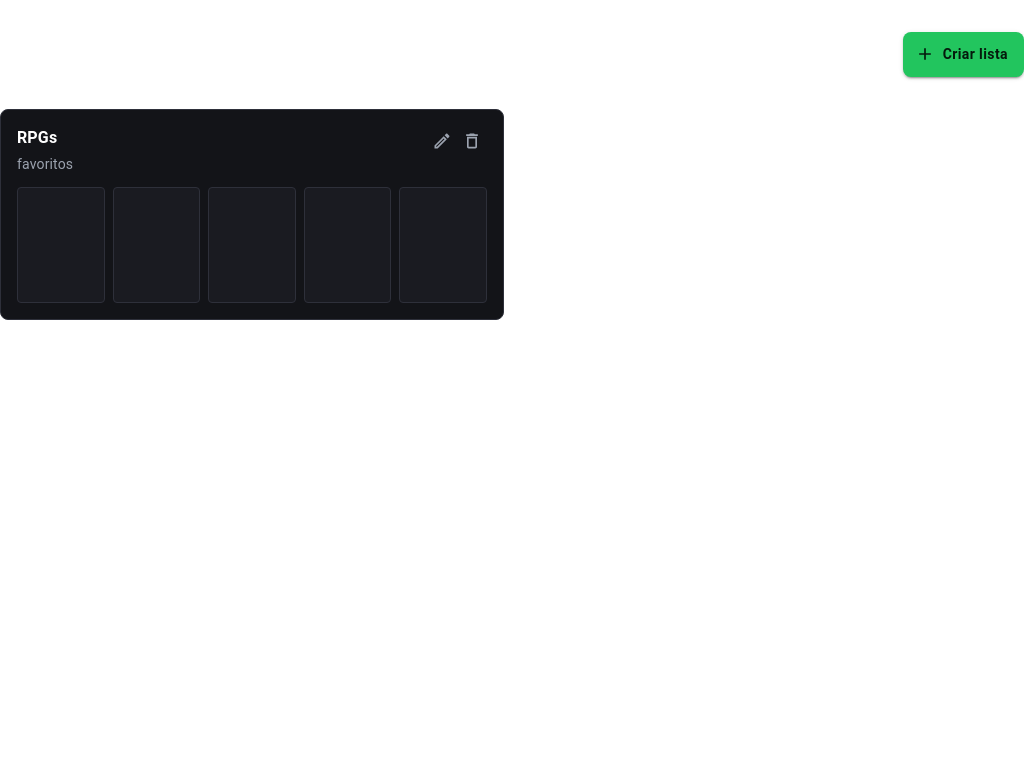
opens the create modal from the header button
Expected: the text "RPGs" is shown, [17,128,57,146]
Step 1. Click the button "Criar lista" → (963, 54), box [903,32,1023,76]
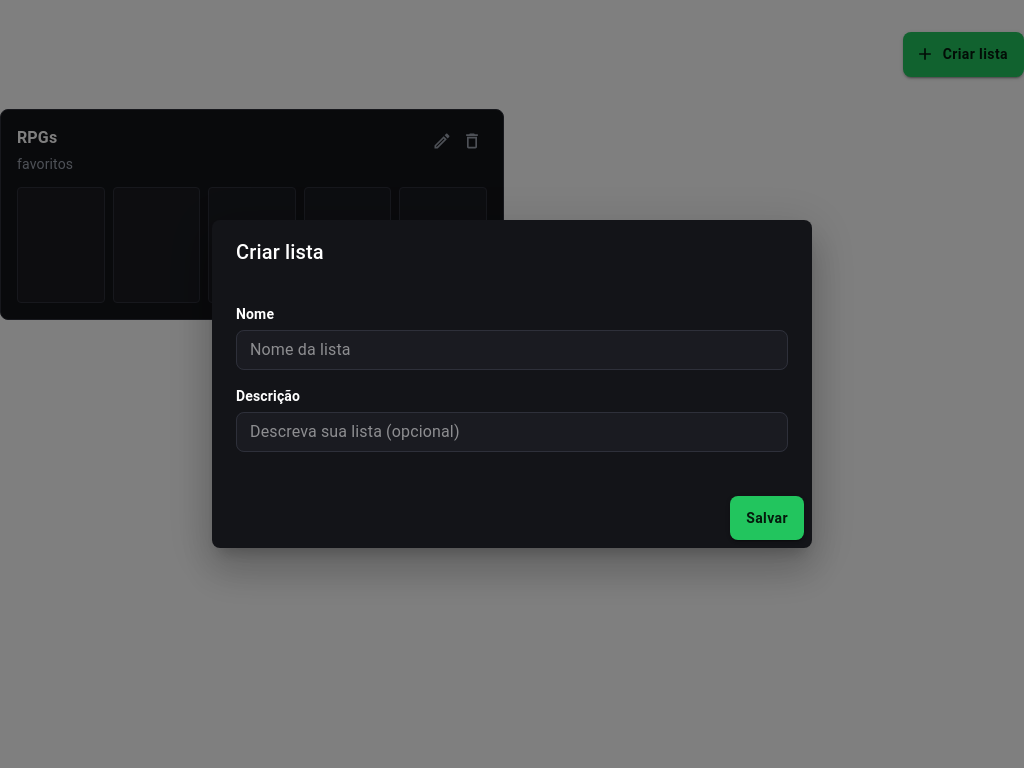
Result: the heading "Criar lista" is shown at [236,240,324,264]
